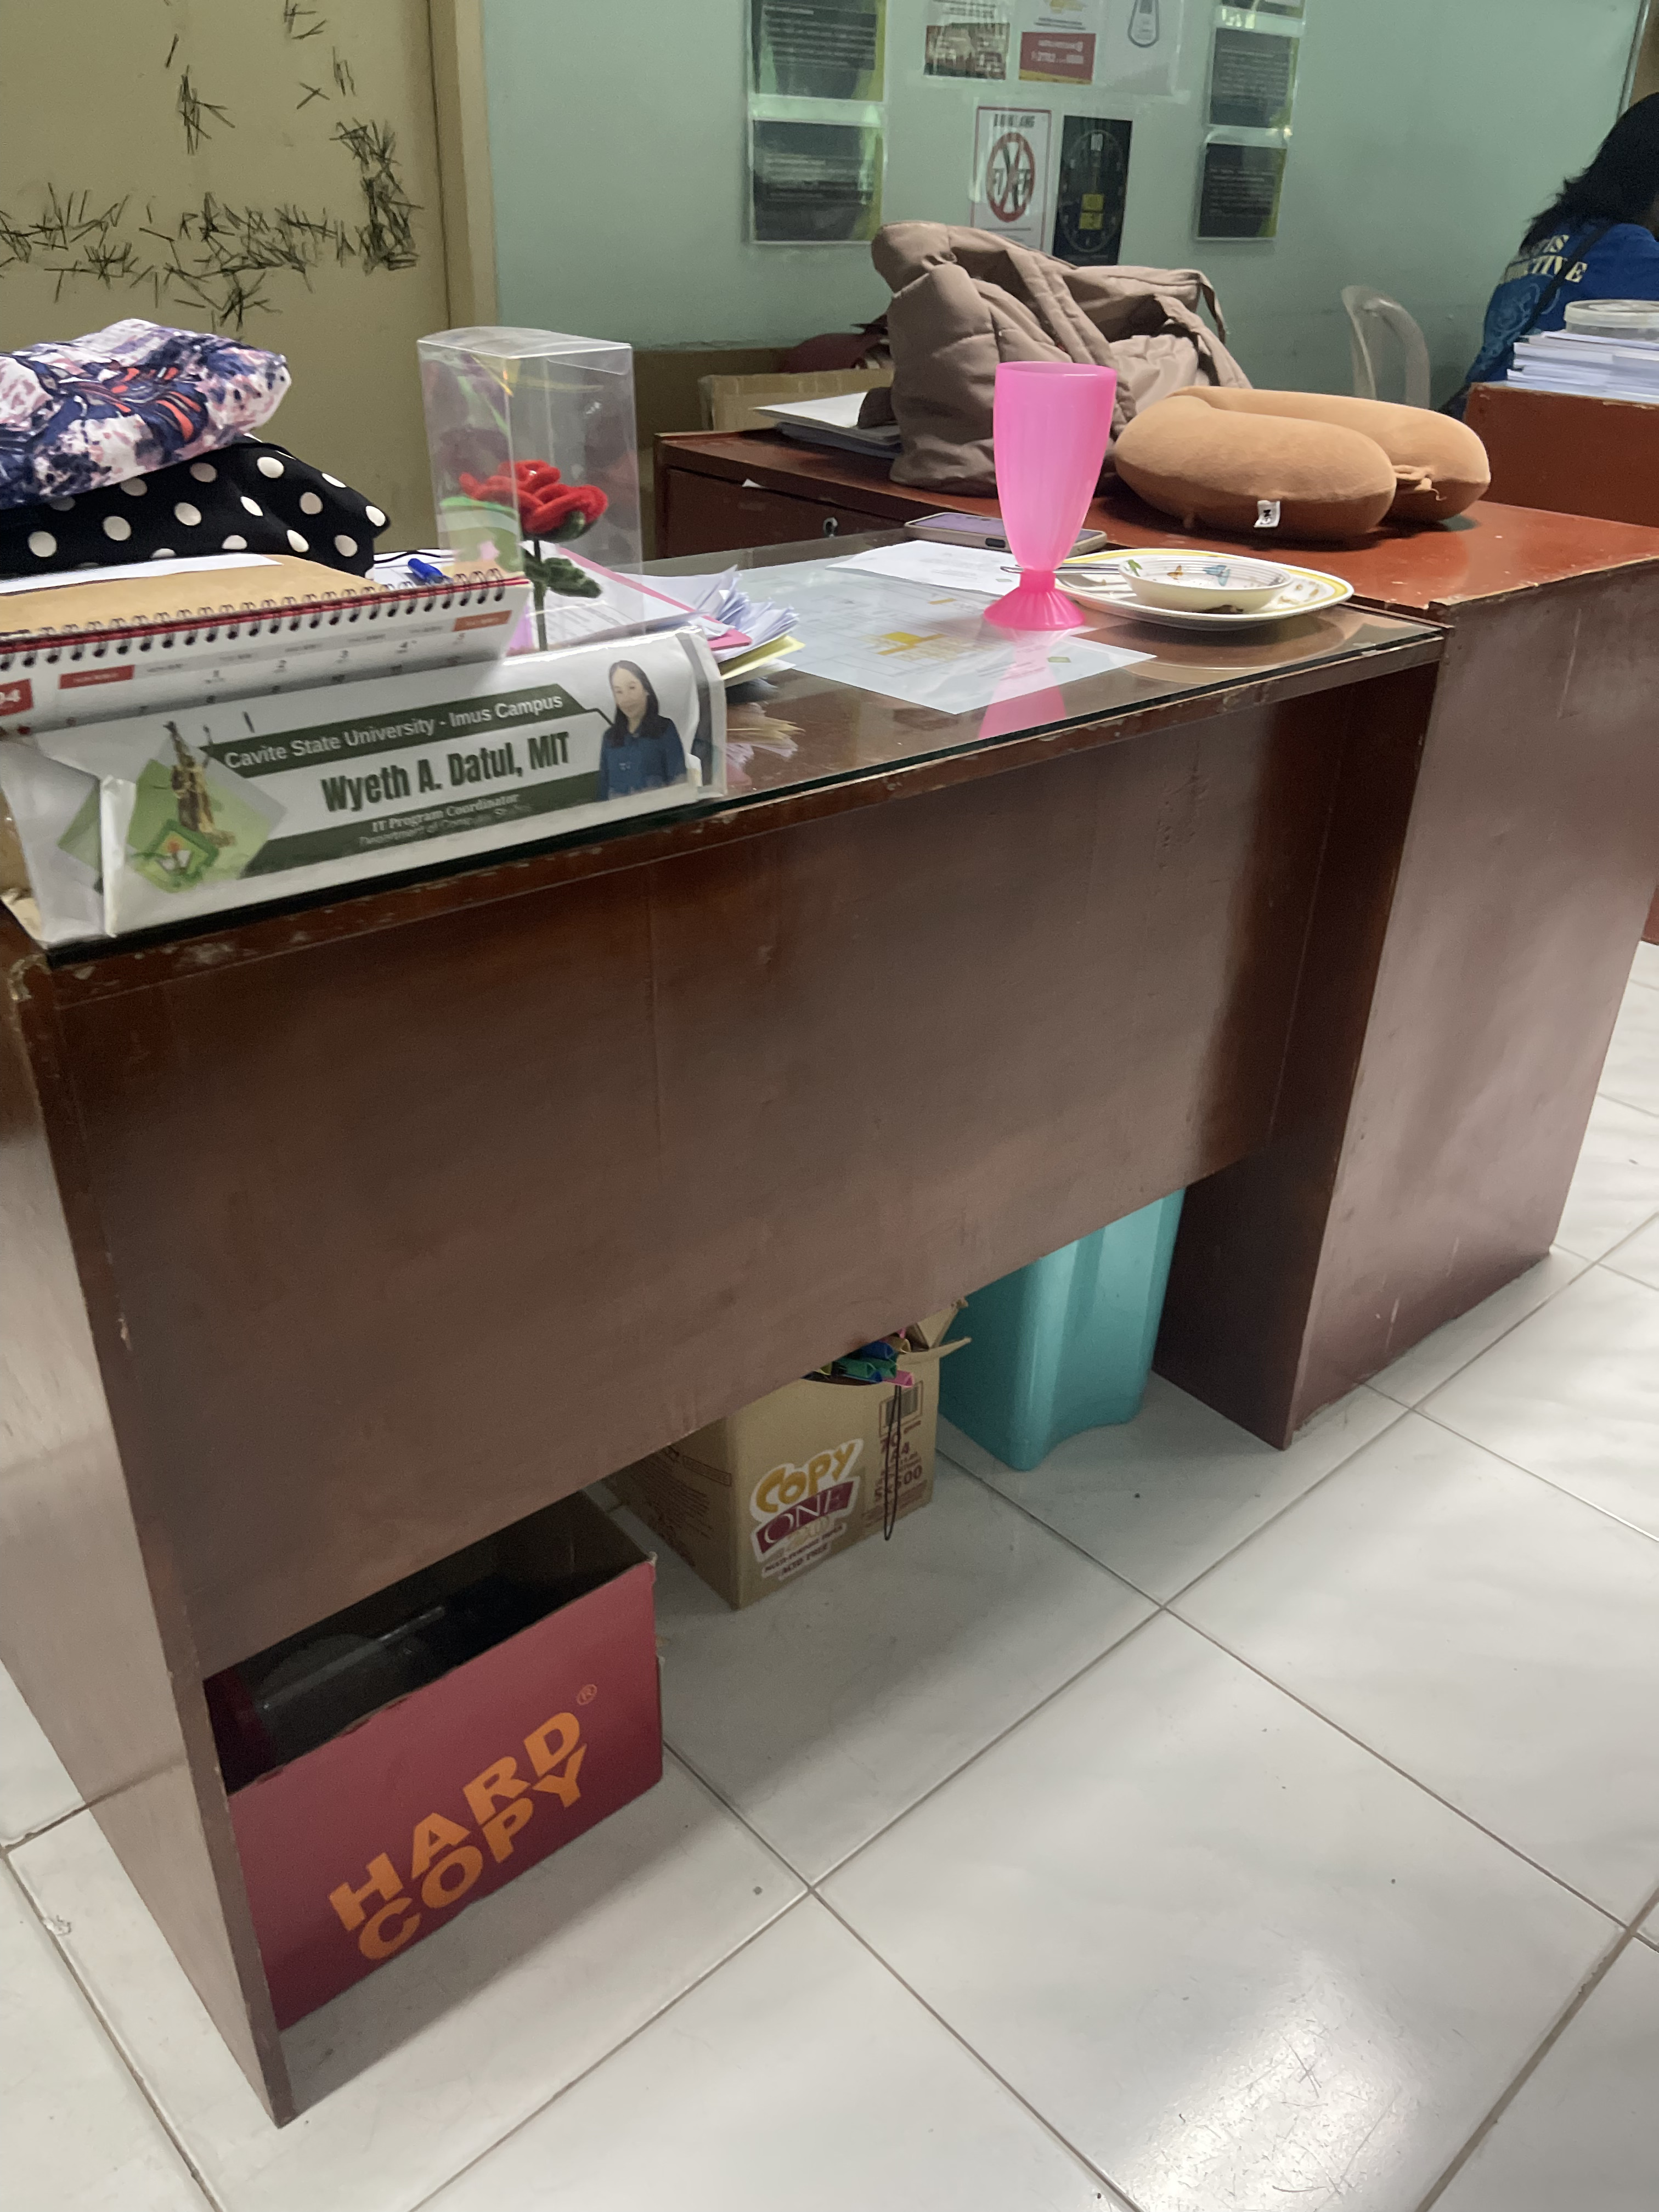table2: (0, 514, 1652, 2139)
